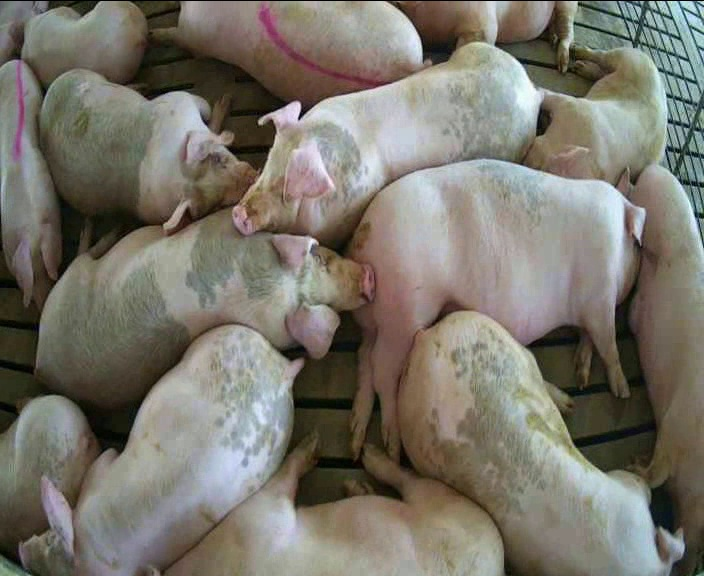pig: (347, 159, 644, 457), (399, 311, 681, 574), (19, 326, 302, 575), (36, 209, 372, 407), (233, 42, 542, 245), (40, 69, 255, 232), (630, 164, 703, 573), (153, 2, 422, 104), (524, 48, 666, 184), (0, 395, 99, 557), (396, 1, 576, 72), (21, 2, 147, 86)
